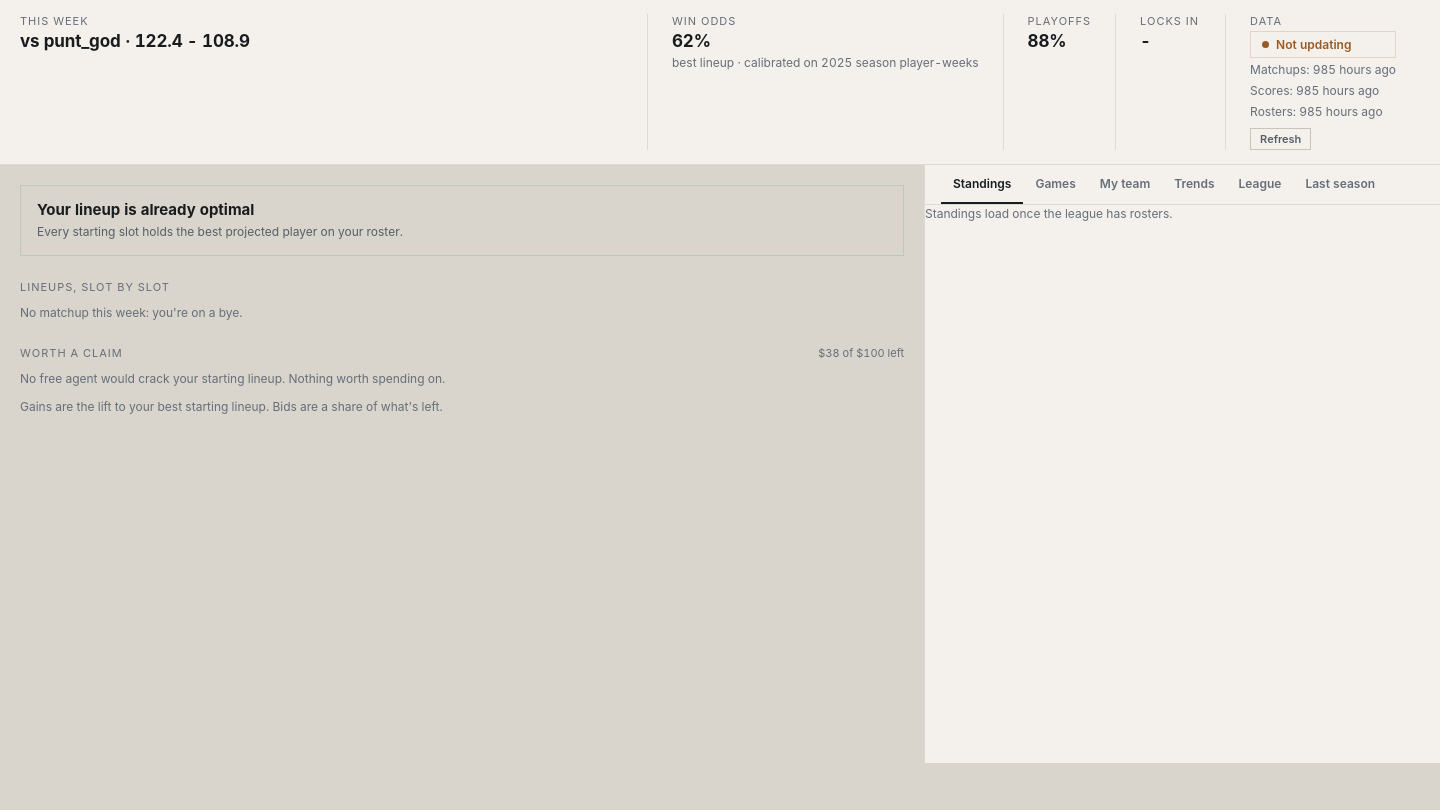
the Refresh button › asks the backend for the season again and shows what came back
Expected: the text "vs punt_god · 122.4 - 108.9" is shown, [20, 31, 250, 51]
Click the button "Refresh". click: (1281, 139)
box: [1250, 128, 1311, 150]
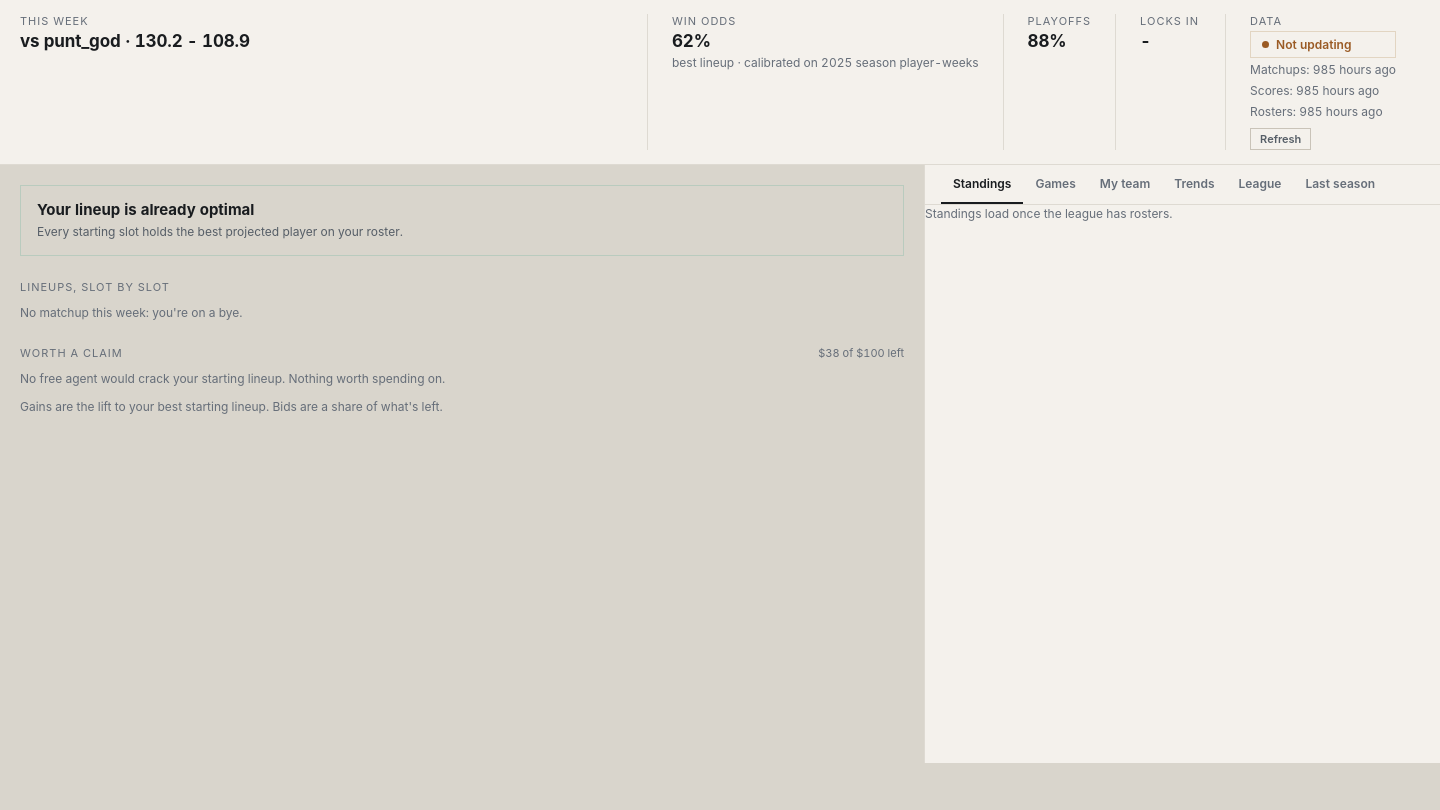
Expected: the text "vs punt_god · 130.2 - 108.9" is shown, [20, 31, 250, 51]
